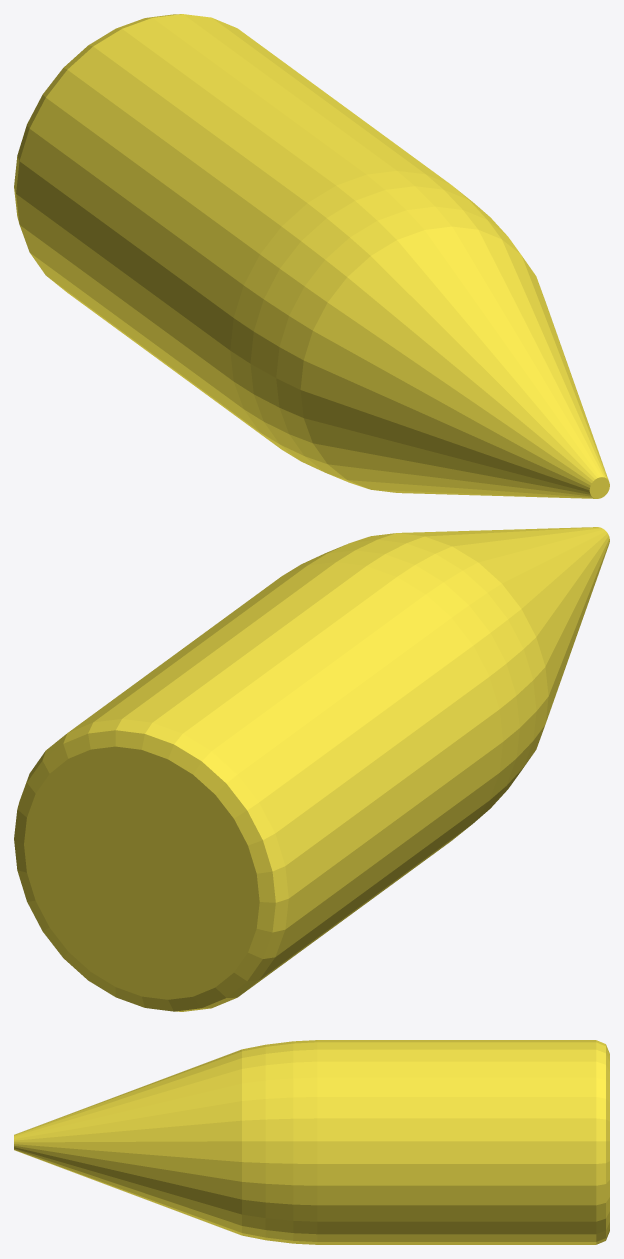
The model's file is BvpProjectile.fbx.
The picture shows the model from 3 angles, top to bottom: view 1: azimuth 30°, elevation 25°; view 2: azimuth 150°, elevation 25°; view 3: azimuth 270°, elevation 25°; orthographic projection. The views are drawn at different scales.
Parts seen in each view (by area): view 1: BvpProjectile; view 2: BvpProjectile; view 3: BvpProjectile.
Boxes of the visible parts, box(x1,y1,x2,y2) form: BvpProjectile: box(14, 14, 609, 498); BvpProjectile: box(14, 527, 609, 1011); BvpProjectile: box(14, 1040, 609, 1244).
Size of the model in its own units: 0.2653 by 0.2653 by 0.7716.
